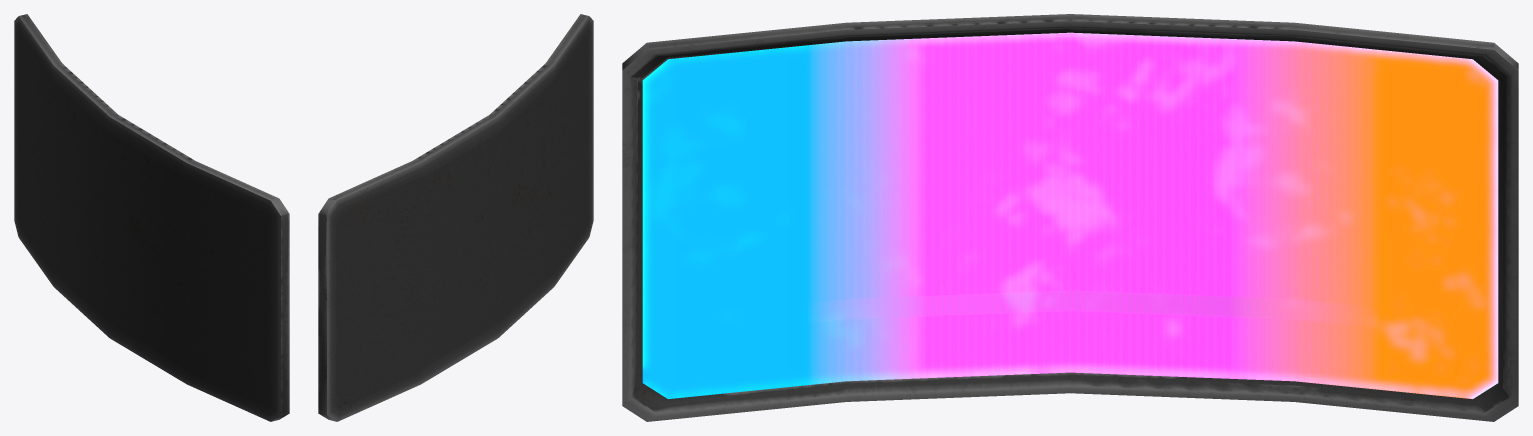
The model's file is white_box_monitor.fbx.
3 views of the same model, side by side, from view 1: azimuth 30°, elevation 25°; view 2: azimuth 150°, elevation 25°; view 3: azimuth 270°, elevation 25° (orthographic). The views are drawn at different scales.
Parts seen in each view (by area): view 1: monitor_body; view 2: monitor_body; view 3: monitor_screen, monitor_body.
Boxes of the visible parts, x1=… form: monitor_body: x1=14, y1=14, x2=289, y2=421; monitor_body: x1=318, y1=14, x2=593, y2=421; monitor_screen: x1=642, y1=32, x2=1498, y2=399; monitor_body: x1=622, y1=14, x2=1518, y2=421.
Size of the model in its own units: 6.37 by 28.83 by 62.93.
